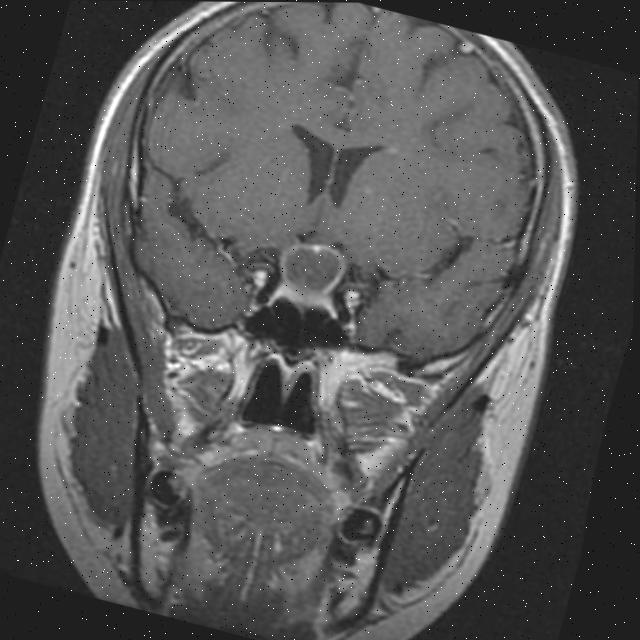Pituitary: (269, 233, 352, 313)
